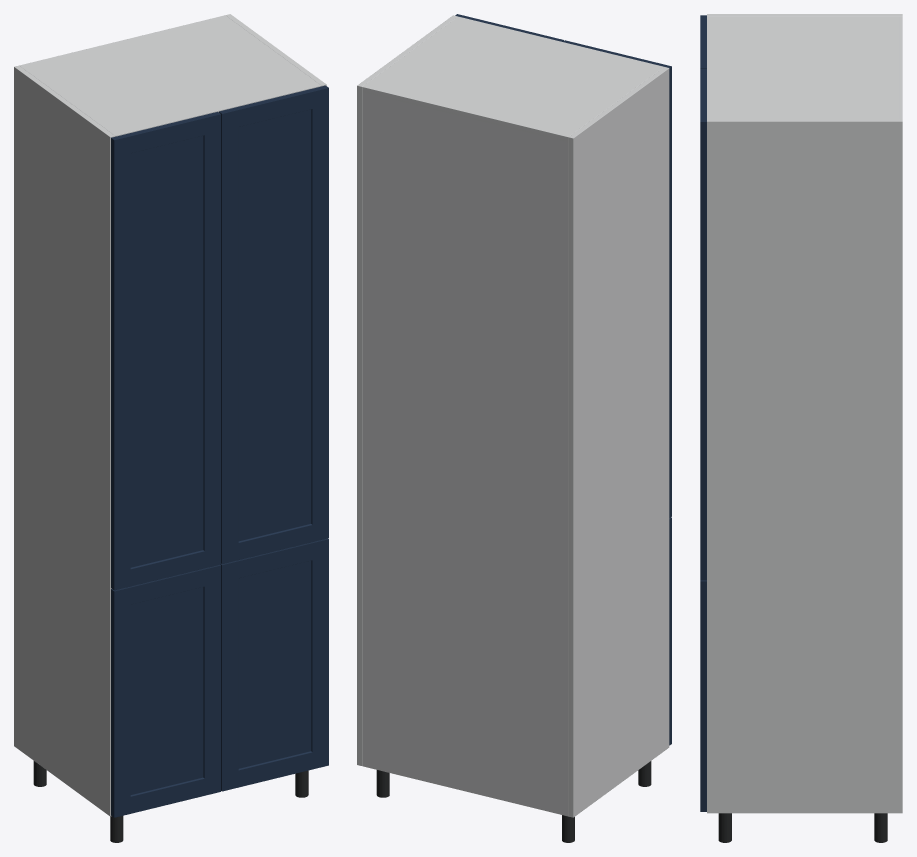
The model's file is oppein-ply-bss-pc3090.glb.
The picture shows the model from 3 angles, left to right: view 1: azimuth 30°, elevation 25°; view 2: azimuth 150°, elevation 25°; view 3: azimuth 270°, elevation 25°; orthographic projection.
Parts seen in each view (by area): view 1: Cabinet side, Upper pantry door, Upper pantry door.001, Lower pantry door, Lower pantry door.001, Cabinet top; view 2: Cabinet back, Cabinet side, Cabinet top, Cabinet side.001, Upper pantry door, Lower pantry door; view 3: Cabinet side.001, Cabinet top, Upper pantry door.001, Lower pantry door.001, Cabinet side, Adjustable foot.002, Adjustable foot.003, Cabinet back.
Boxes of the visible parts, box(x1,y1,x2,y2) form: Cabinet side: box(14, 65, 115, 816); Upper pantry door: box(111, 112, 220, 590); Upper pantry door.001: box(219, 85, 328, 563); Lower pantry door: box(111, 564, 220, 817); Lower pantry door.001: box(220, 538, 328, 791); Cabinet top: box(21, 16, 321, 136); Cabinet back: box(362, 85, 569, 816); Cabinet side: box(568, 67, 669, 817); Cabinet top: box(362, 16, 663, 141); Cabinet side.001: box(357, 15, 457, 765); Upper pantry door: box(563, 40, 671, 517); Lower pantry door: box(669, 517, 671, 745); Cabinet side.001: box(707, 119, 902, 813); Cabinet top: box(707, 16, 898, 118); Upper pantry door.001: box(700, 69, 706, 580); Lower pantry door.001: box(700, 580, 706, 811); Cabinet side: box(707, 14, 902, 16); Adjustable foot.002: box(874, 813, 887, 842); Adjustable foot.003: box(718, 813, 731, 842); Cabinet back: box(899, 16, 902, 118).
Bounding box in the file's own units: 0.762 × 2.4 × 0.6064.
